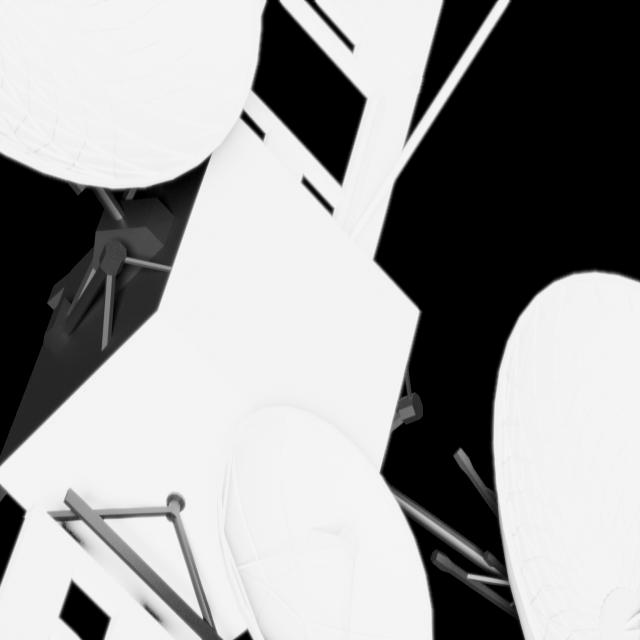satellite: (0, 1, 639, 640)
